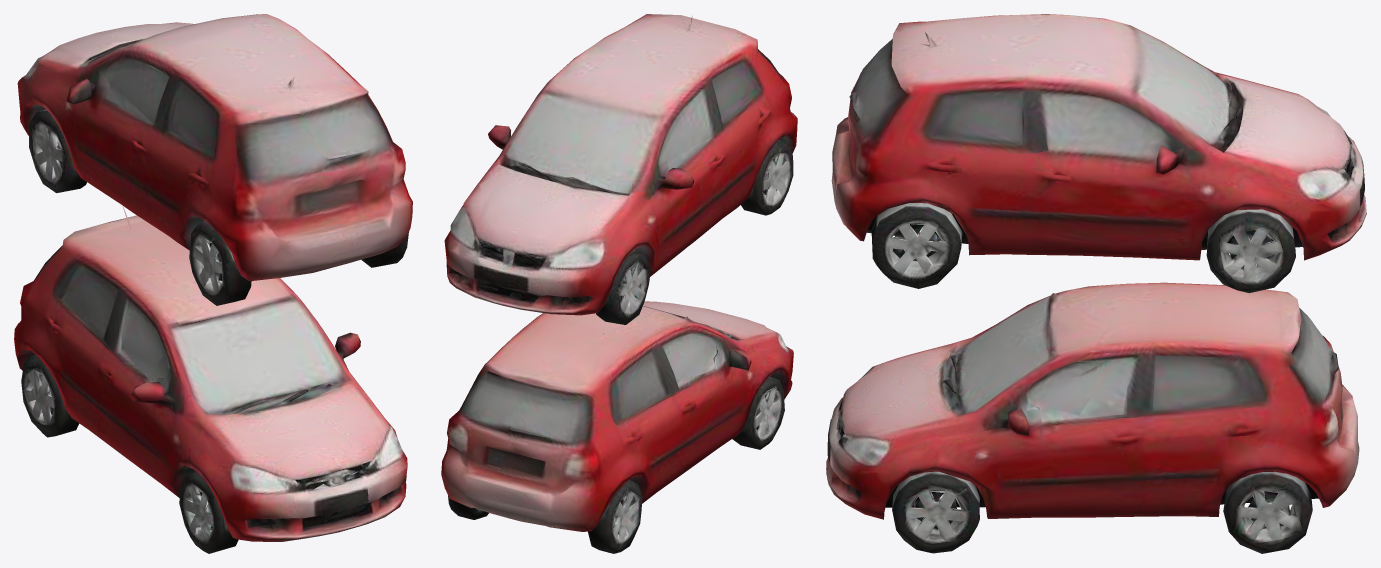
Rendered from auto_rot.glb.
3 views of the same model, side by side, from view 1: azimuth 30°, elevation 25°; view 2: azimuth 150°, elevation 25°; view 3: azimuth 270°, elevation 25° (orthographic). The views are drawn at different scales.
Parts seen in each view (by area): view 1: tripo_node_276be47e-a72d-4aae-81f6-d9e96bdf9ecc; view 2: tripo_node_276be47e-a72d-4aae-81f6-d9e96bdf9ecc; view 3: tripo_node_276be47e-a72d-4aae-81f6-d9e96bdf9ecc.
Boxes of the visible parts, x1,y1,x2,y2 form: tripo_node_276be47e-a72d-4aae-81f6-d9e96bdf9ecc: (14,14,412,553); tripo_node_276be47e-a72d-4aae-81f6-d9e96bdf9ecc: (441,14,797,553); tripo_node_276be47e-a72d-4aae-81f6-d9e96bdf9ecc: (826,14,1366,553).
Size of the model in its own units: 0.5098 by 0.975 by 1.
Materials: 1 (1 with a texture image).
